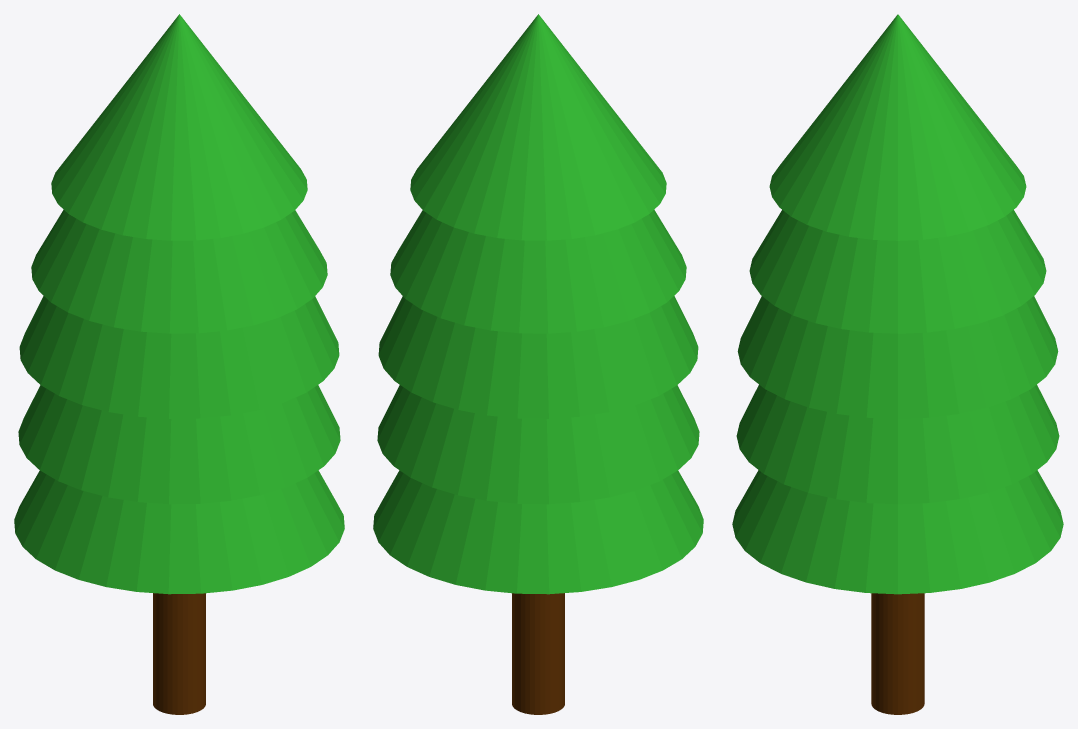
File: tree.fbx
3 views of the same model, side by side, from view 1: azimuth 30°, elevation 25°; view 2: azimuth 150°, elevation 25°; view 3: azimuth 270°, elevation 25° (orthographic).
Parts seen in each view (by area): view 1: Cylinder; view 2: Cylinder; view 3: Cylinder.
Part boxes in pixels (x1=…): Cylinder: x1=14, y1=14, x2=344, y2=714; Cylinder: x1=373, y1=14, x2=703, y2=714; Cylinder: x1=732, y1=14, x2=1063, y2=714.
Bounding box in the file's own units: 183 × 421 × 183.
